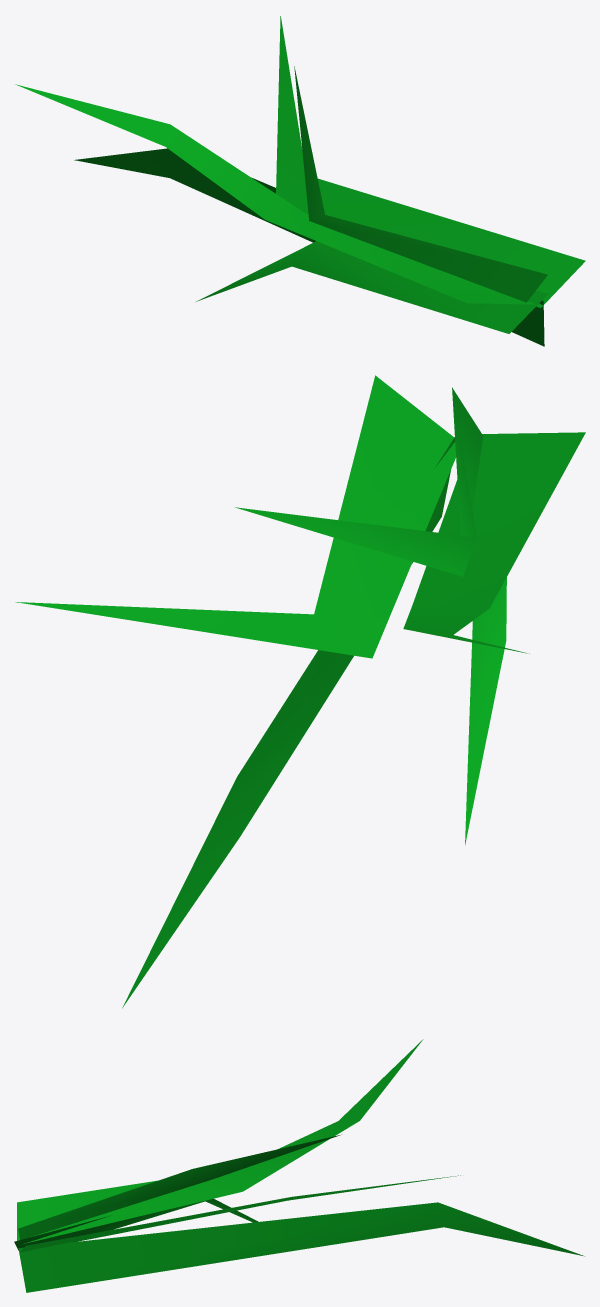
Rendered from iarba2.fbx.
The picture shows the model from 3 angles, top to bottom: view 1: azimuth 30°, elevation 25°; view 2: azimuth 150°, elevation 25°; view 3: azimuth 270°, elevation 25°; orthographic projection. The views are drawn at different scales.
Visible parts, largest first — view 1: Grass 4; view 2: Grass 4; view 3: Grass 4.
Part boxes in pixels (x1,y1,x2,y2): Grass 4: [15, 16, 585, 346]; Grass 4: [15, 375, 585, 1008]; Grass 4: [14, 1039, 584, 1292].
Size of the model in its own units: 28.78 by 16.05 by 50.83.
